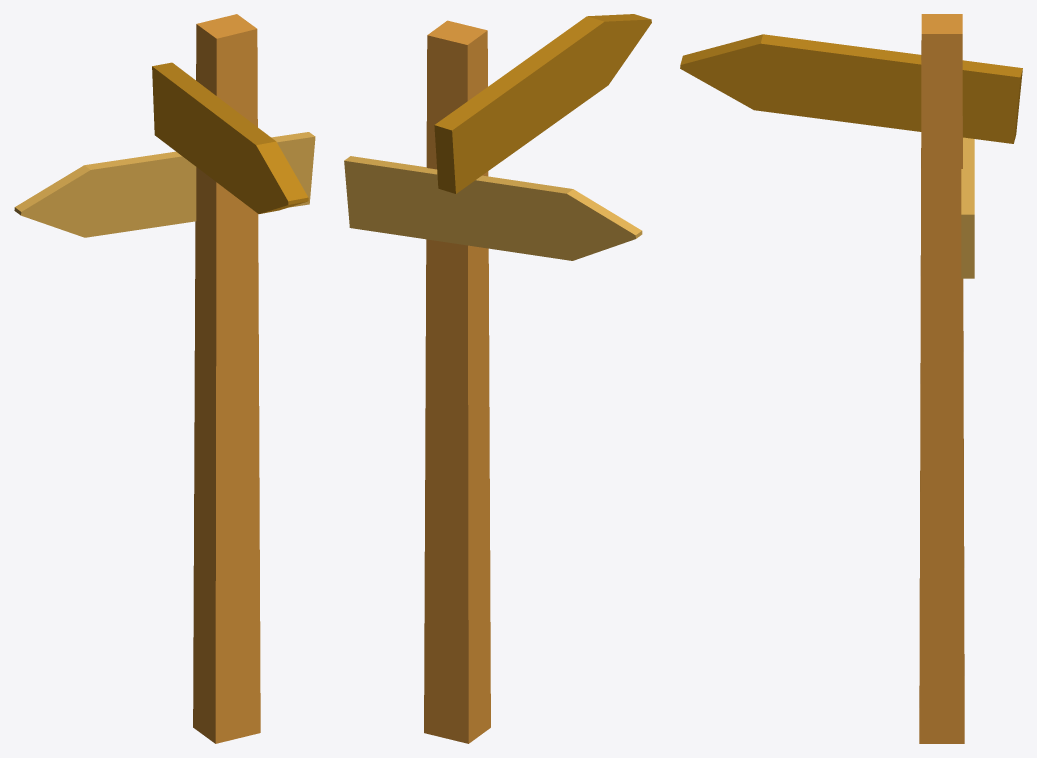
File: Sign.fbx
3 views of the same model, side by side, from view 1: azimuth 30°, elevation 25°; view 2: azimuth 150°, elevation 25°; view 3: azimuth 270°, elevation 25° (orthographic).
Parts seen in each view (by area): view 1: Pole, Pole.002, Pole.001; view 2: Pole, Pole.002, Pole.001; view 3: Pole, Pole.001, Pole.002.
Part boxes in pixels (x1,y1,x2,y2): Pole: (193, 14, 260, 743); Pole.002: (14, 132, 315, 237); Pole.001: (152, 62, 308, 213); Pole: (424, 20, 490, 743); Pole.002: (344, 156, 642, 260); Pole.001: (434, 14, 651, 193); Pole: (919, 14, 964, 743); Pole.001: (680, 34, 1022, 143); Pole.002: (961, 137, 974, 278).
Size of the model in its own units: 1446 by 3302 by 1447.
